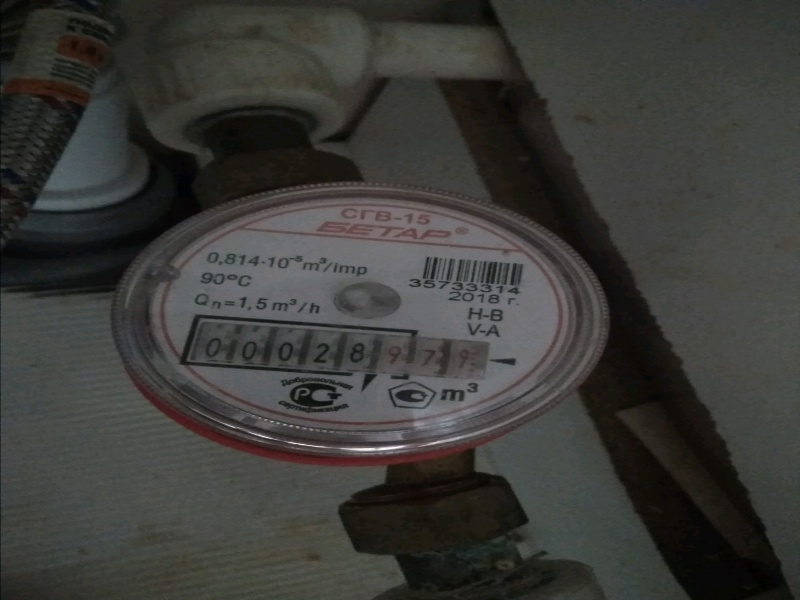meter: (190, 332, 477, 380)
